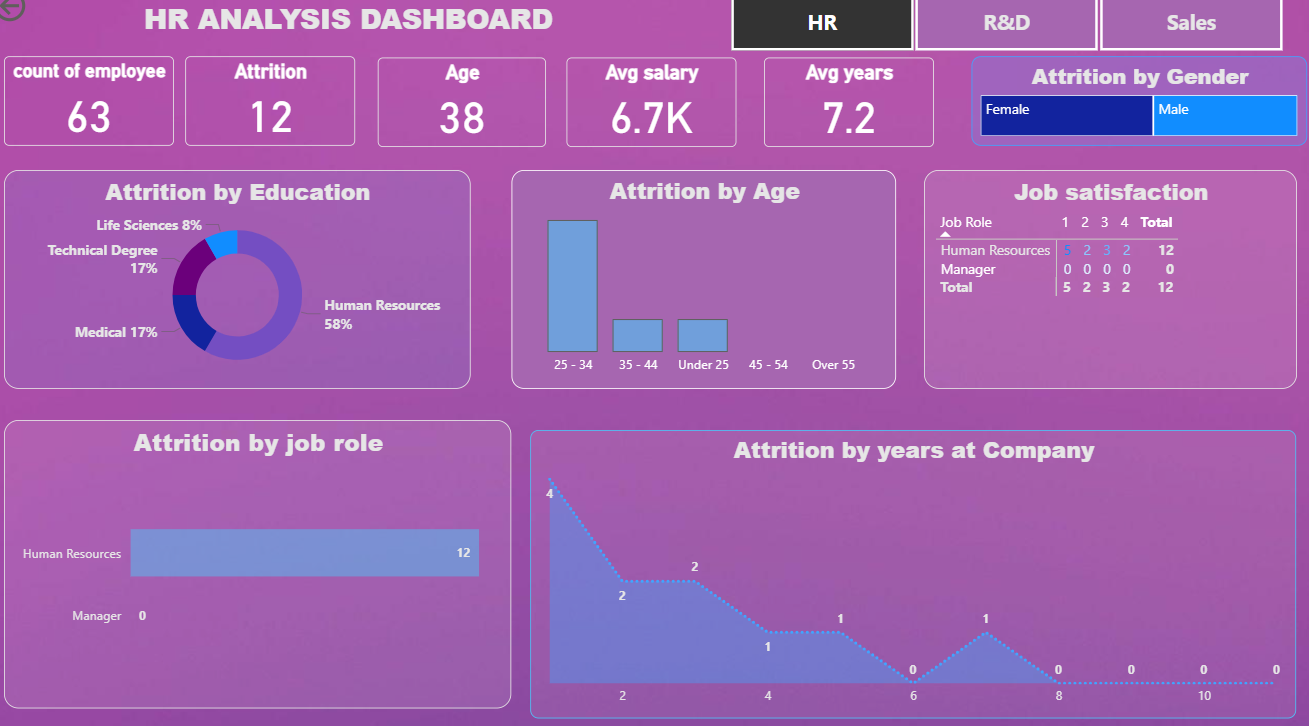

The dashboard page shown, as its layout file describes it:
{"tool":"powerbi","page":{"name":"Page 1","canvas":[1280,720],"ordinal":0},"visuals":[{"type":"card","title":"count of employee","fields":{"Values":["CountNonNull(HR Data xlsx - HR data.Employee Count)"]},"box":[15,68.8,163.8,86.2],"z":0},{"type":"card","title":"Attrition","fields":{"Values":["Sum(HR Data xlsx - HR data.attrition count)"]},"box":[190,68.8,163.8,86.2],"z":1000},{"type":"card","title":"Age","fields":{"Values":["Avg(HR Data xlsx - HR data.Age)"]},"box":[375,70,162.5,86.2],"z":2000},{"type":"actionButton","box":[0,0,100,40],"z":3000},{"type":"card","title":"Avg salary","fields":{"Values":["Avg(HR Data xlsx - HR data.Monthly Income)"]},"box":[557.5,70,163.8,86.2],"z":4000},{"type":"card","title":"Avg years","fields":{"Values":["Avg(HR Data xlsx - HR data.Years At Company)"]},"box":[747.5,70,163.8,86.2],"z":5000},{"type":"donutChart","title":"Attrition by Education ","fields":{"Category":["HR Data xlsx - HR data.Education Field"],"Y":["Sum(HR Data xlsx - HR data.attrition count)"]},"box":[15,178.8,450,211.2],"z":6000},{"type":"columnChart","title":"Attrition by Age","fields":{"Category":["HR Data xlsx - HR data.age group"],"Y":["Sum(HR Data xlsx - HR data.attrition count)"]},"box":[504.3,178.6,371.6,211.1],"z":7000},{"type":"pivotTable","title":"Job satisfaction","fields":{"Rows":["HR Data xlsx - HR data.Job Role"],"Columns":["HR Data xlsx - HR data.Job Satisfaction"],"Values":["Sum(HR Data xlsx - HR data.attrition count)"]},"box":[902.5,178.8,360,211.2],"z":8000},{"type":"barChart","title":"Attrition by job role","fields":{"Category":["HR Data xlsx - HR data.Job Role"],"Y":["Sum(HR Data xlsx - HR data.attrition count)"]},"box":[14.5,419.8,489.8,278.7],"z":9000},{"type":"lineChart","title":"Attrition by years at Company","fields":{"Category":["HR Data xlsx - HR data.Years At Company"],"Y":["Sum(HR Data xlsx - HR data.attrition count)"]},"box":[522.4,429.5,739.5,278.7],"z":10000},{"type":"treemap","title":"Attrition by Gender","fields":{"Group":["HR Data xlsx - HR data.Gender"],"Values":["Sum(HR Data xlsx - HR data.attrition count)"]},"box":[948.8,68.8,323.8,86.2],"z":11000},{"type":"textbox","box":[52.5,8.8,587.5,51.2],"z":12000},{"type":"slicer","fields":{"Values":["HR Data xlsx - HR data.Department"]},"box":[690,0,582.5,70],"z":13000}]}

Visuals, with their boxes in screenshot pixels (x1, y1, x2, y2), scaled from the page's 1280x720 canvas onto the 1309x726 screenshot:
"count of employee" card: <box>15,69,183,156</box>
"Attrition" card: <box>194,69,362,156</box>
"Age" card: <box>383,71,550,158</box>
actionButton: <box>0,0,102,40</box>
"Avg salary" card: <box>570,71,738,158</box>
"Avg years" card: <box>764,71,932,158</box>
"Attrition by Education " donutChart: <box>15,180,476,393</box>
"Attrition by Age" columnChart: <box>516,180,896,393</box>
"Job satisfaction" pivotTable: <box>923,180,1291,393</box>
"Attrition by job role" barChart: <box>15,423,516,704</box>
"Attrition by years at Company" lineChart: <box>534,433,1290,714</box>
"Attrition by Gender" treemap: <box>970,69,1301,156</box>
textbox: <box>54,9,654,60</box>
slicer - HR Data xlsx - HR data.Department: <box>706,0,1301,71</box>
